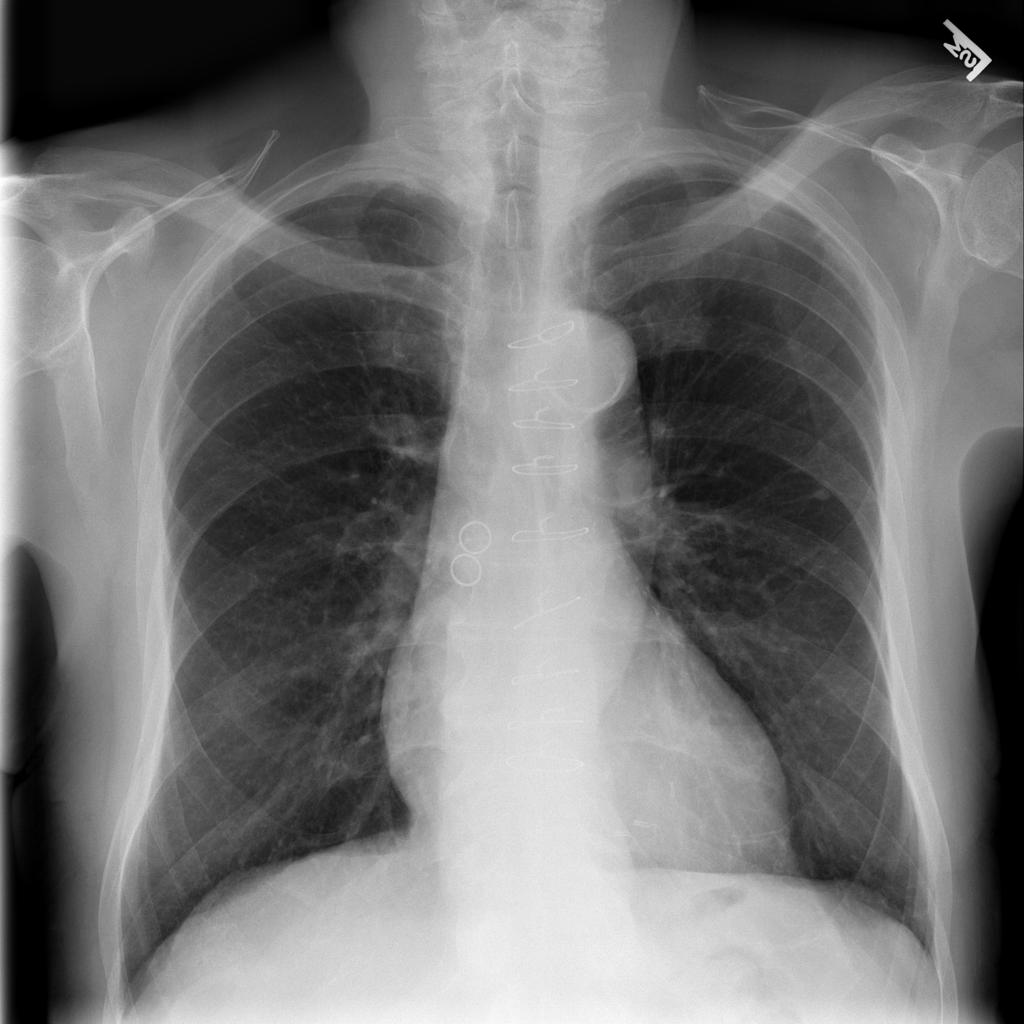nodule: (798, 468, 847, 520)
